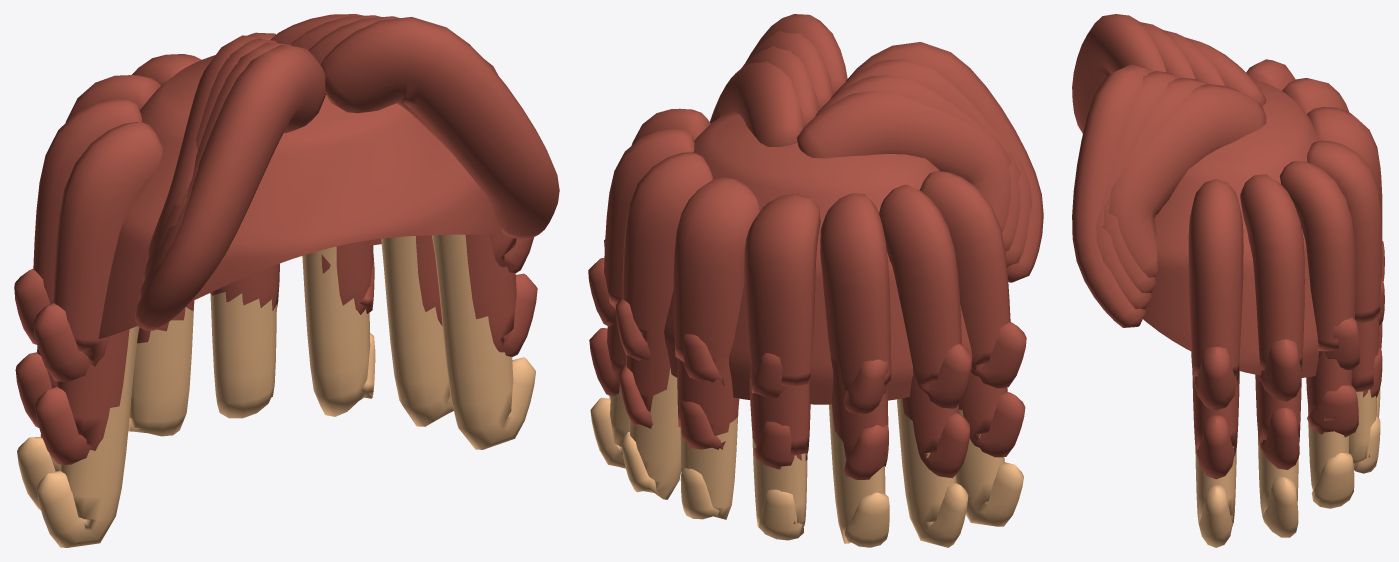
File: studio_wolf_medium.glb
3 views of the same model, side by side, from view 1: azimuth 30°, elevation 25°; view 2: azimuth 150°, elevation 25°; view 3: azimuth 270°, elevation 25° (orthographic). The views are drawn at different scales.
Visible parts, largest first — view 1: wolf; view 2: wolf; view 3: wolf.
Boxes of the visible parts, x1=… form: wolf: x1=14, y1=14, x2=559, y2=547; wolf: x1=588, y1=14, x2=1043, y2=547; wolf: x1=1072, y1=14, x2=1384, y2=547.
Bounding box in the file's own units: 0.5978 × 0.5683 × 0.3882.
